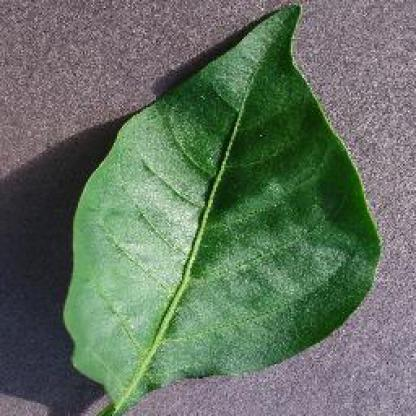good leaf: (42, 0, 384, 408)
